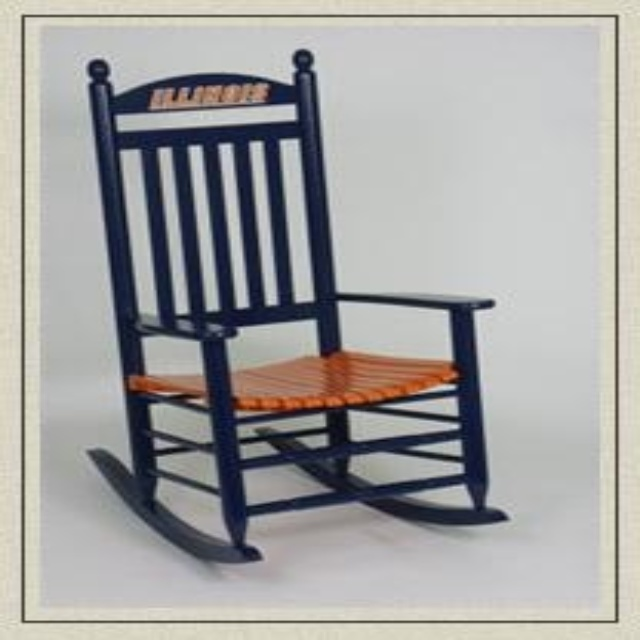obstacle: (89, 49, 505, 561)
